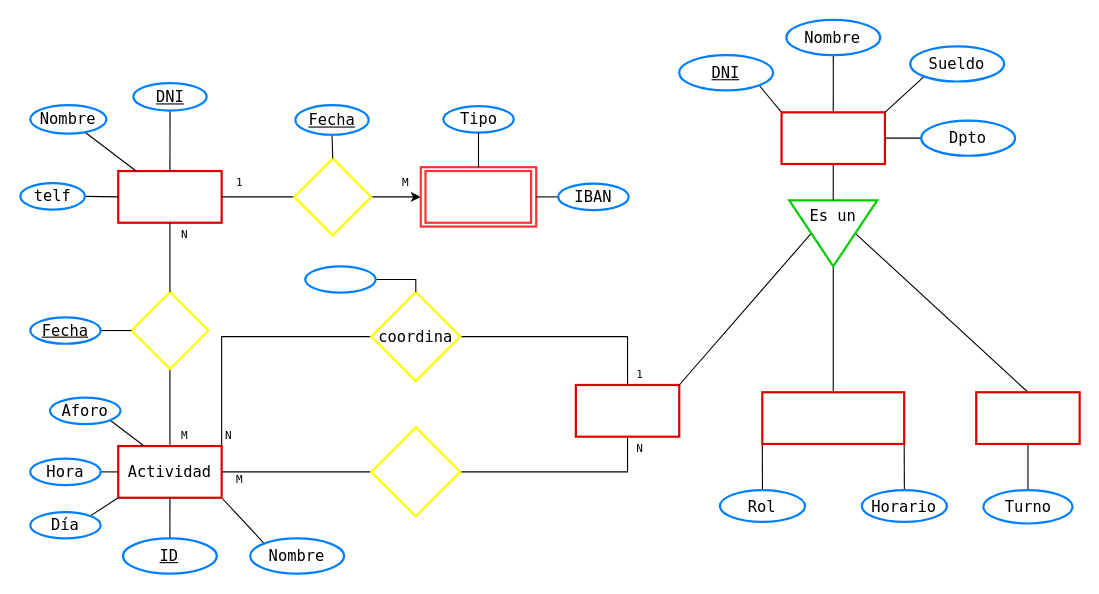
The diagram is 1099 pixels wide and 594 high, and some of its shapes have lost their labels. The centre of each missing label's shape, as x and y in pixels:
"abona" goes at point 332,196.
"Administrativo" goes at point 833,418.
"asiste" goes at point 169,330.
"Empleado" goes at point 833,138.
"imparte" goes at point 415,471.
"Limpiador" goes at point 1027,418.
"Mes" goes at point 340,279.
"Monitor" goes at point 627,410.
"Socio" goes at point 169,196.
"Suscripción" goes at point 478,196.
